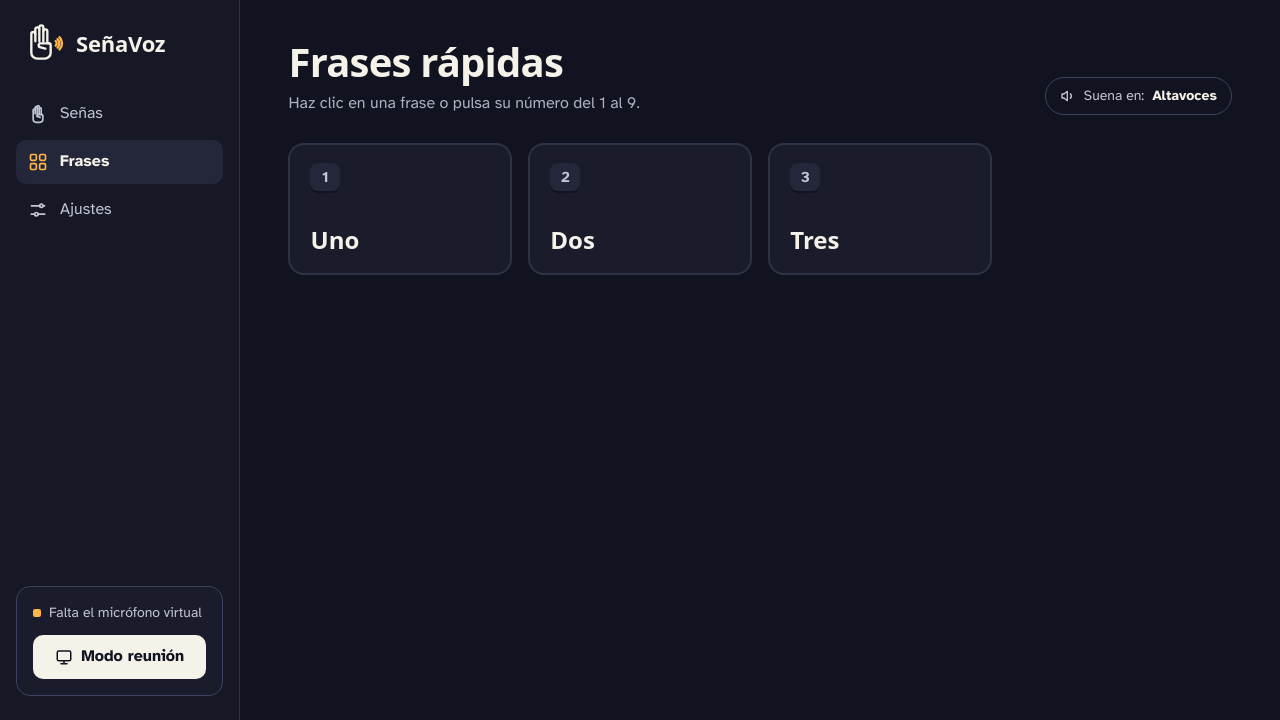
Test: transiciones entre pantallas › cambiar de pantalla no vuelve a montar la barra lateral
Click the link "Señas" at (65,114), box x1=28 y1=103 x2=103 y2=124
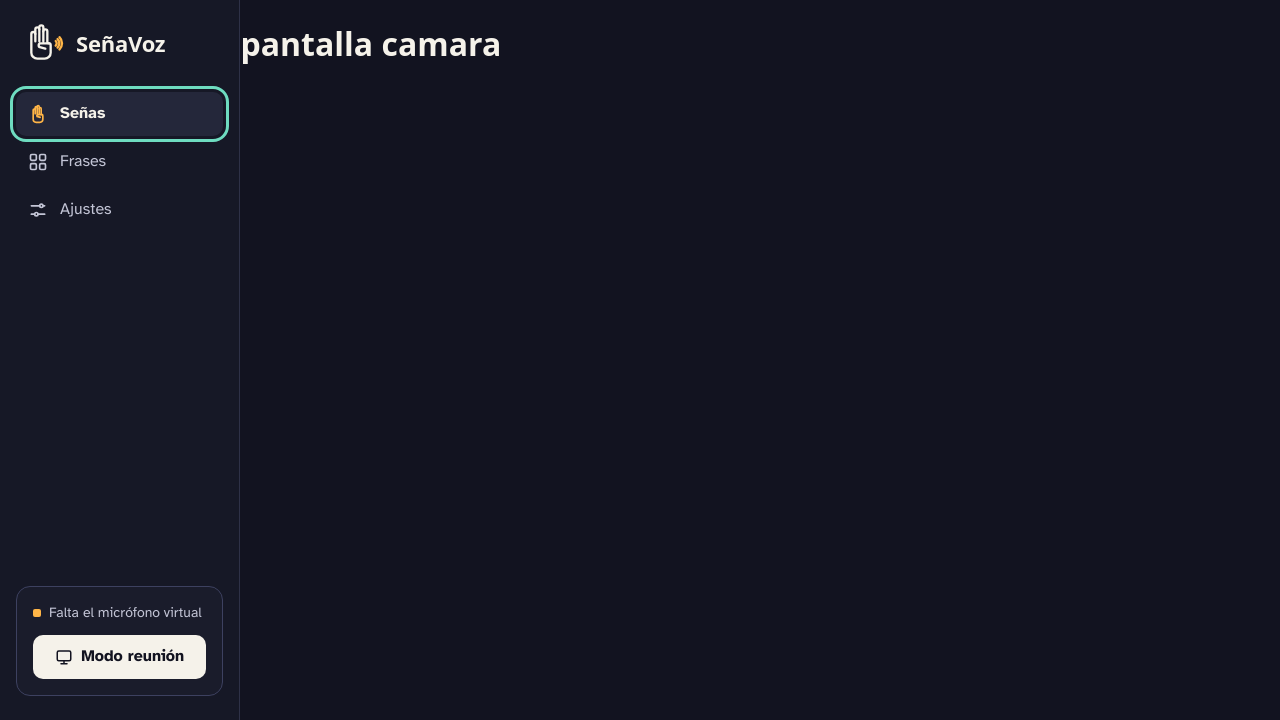
Expected: the heading "pantalla camara" is shown, x1=240 y1=22 x2=501 y2=65
